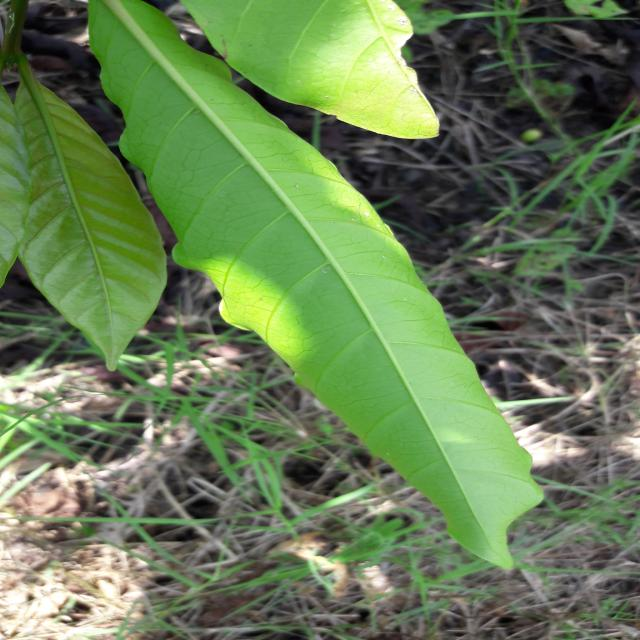Sanas: (86, 0, 545, 573)
